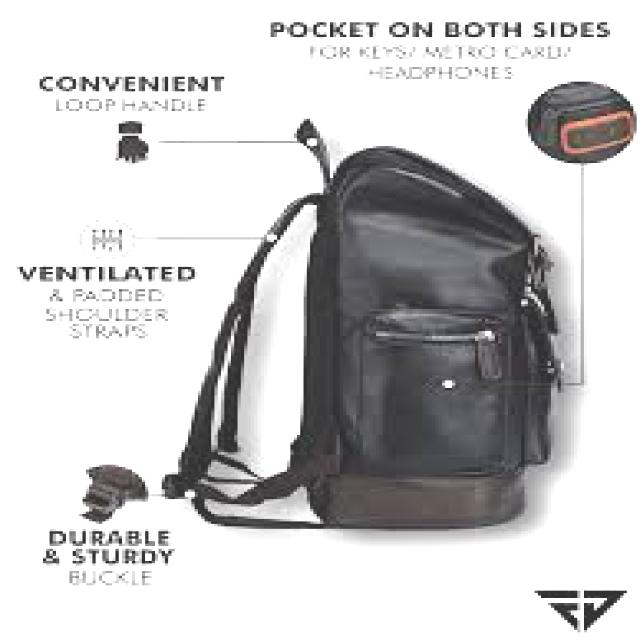backpack: (291, 127, 555, 539)
